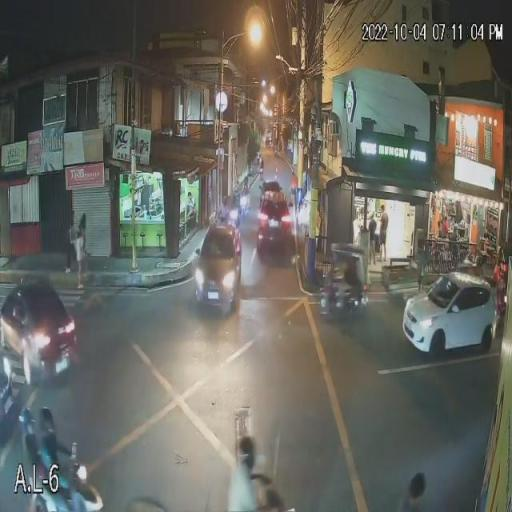helmet: (227, 427, 268, 474), (15, 402, 42, 439), (33, 405, 63, 438)
motorcycle: (13, 445, 127, 512)
rider: (210, 466, 290, 512), (39, 434, 83, 509), (16, 435, 58, 512)
